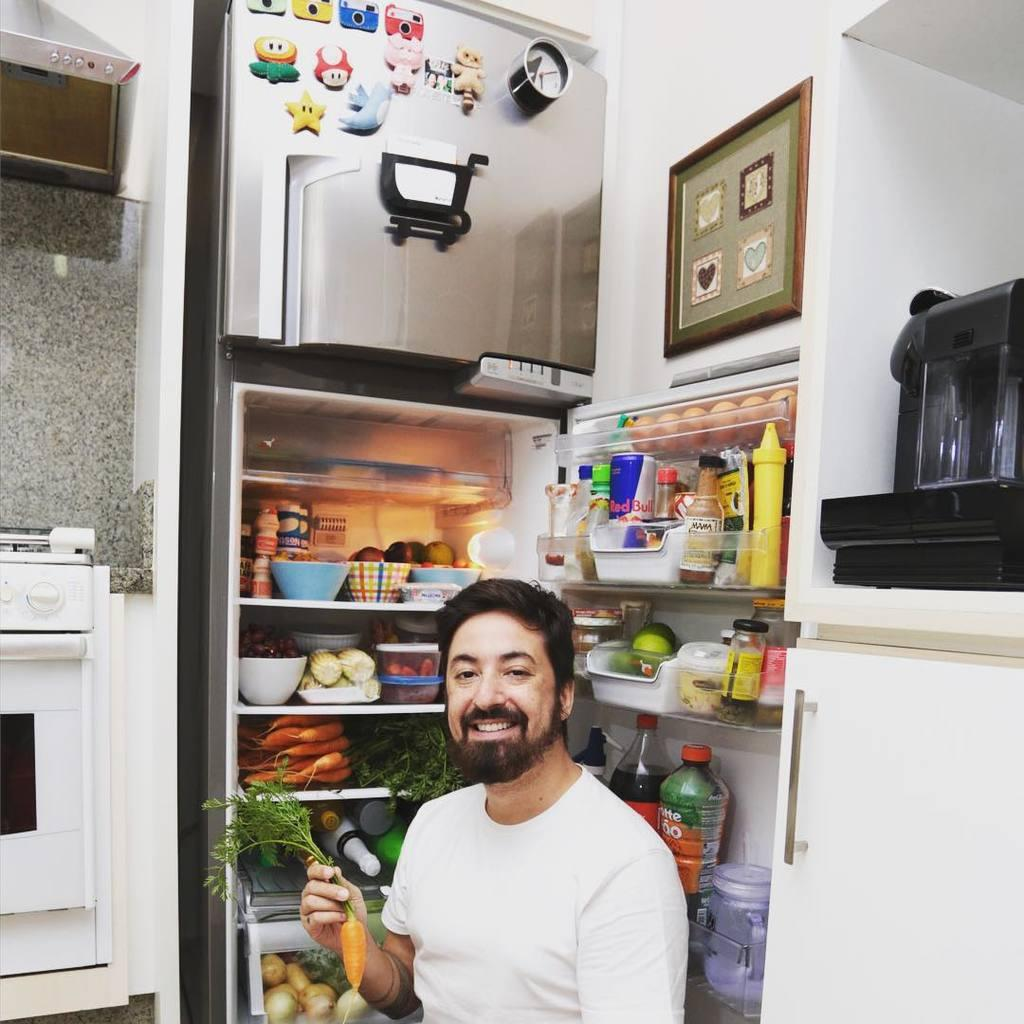cabinet_door: (786, 653, 1024, 1024)
handle: (787, 686, 817, 888), (0, 620, 100, 668)
